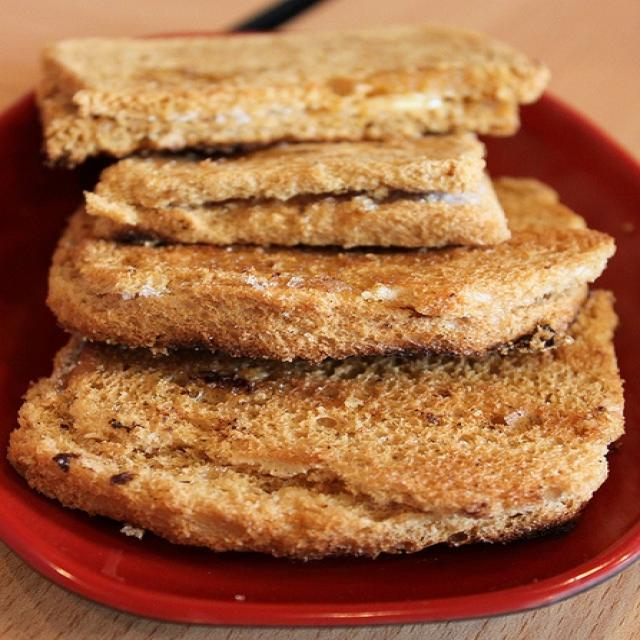面包点心: (19, 26, 602, 592)
